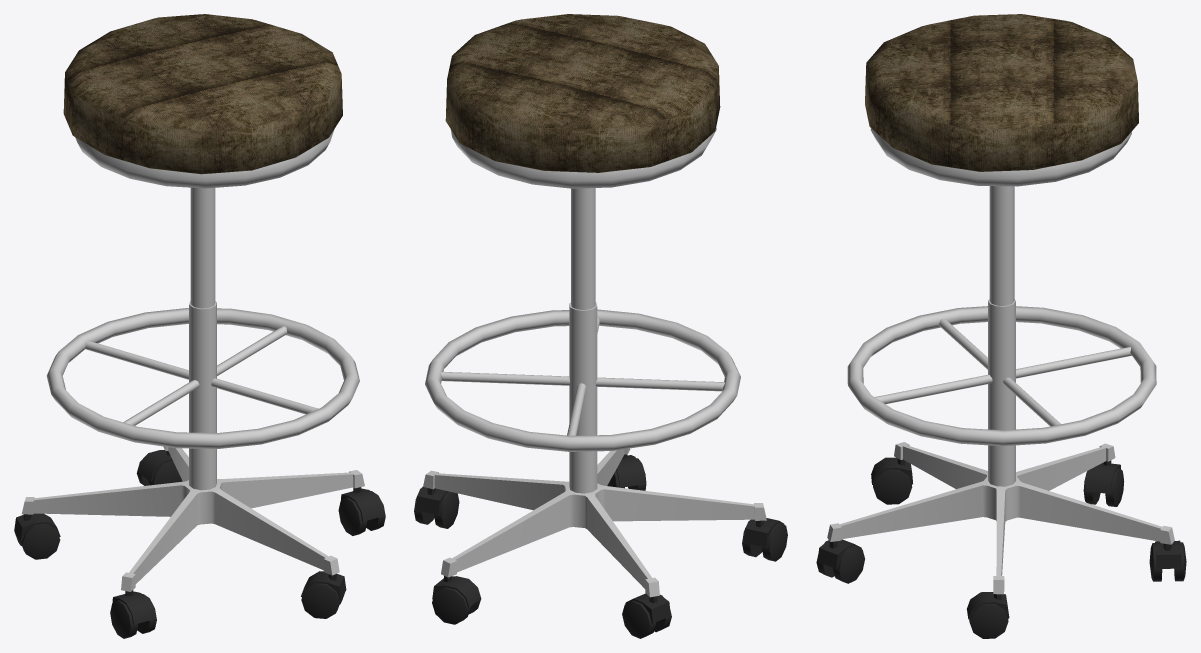
The model's file is garage_stool_03.FBX.
The picture shows the model from 3 angles, left to right: view 1: azimuth 30°, elevation 25°; view 2: azimuth 150°, elevation 25°; view 3: azimuth 270°, elevation 25°; orthographic projection.
Parts seen in each view (by area): view 1: garage_stool_03; view 2: garage_stool_03; view 3: garage_stool_03.
Boxes of the visible parts, <box> form: garage_stool_03: <box>14,14,385,638</box>; garage_stool_03: <box>414,14,787,638</box>; garage_stool_03: <box>816,14,1186,638</box>.
Size of the model in its own units: 0.457 by 0.7049 by 0.4766.
